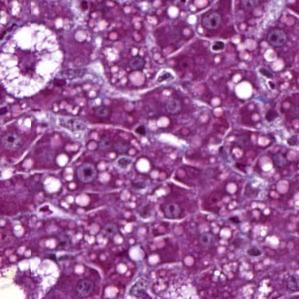ballooning: (0, 19, 65, 102), (0, 254, 64, 299)
